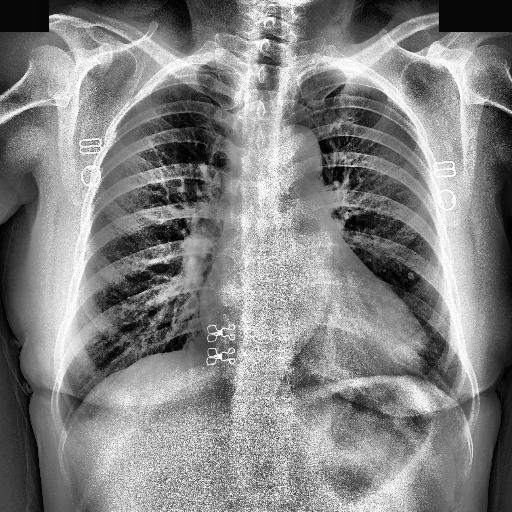0- Aortic enlargement: (274, 121, 320, 171)
3- Cardiomegaly: (196, 263, 428, 373), (198, 286, 434, 383), (196, 301, 428, 373)
8- Nodule-Mass: (408, 271, 415, 279)
